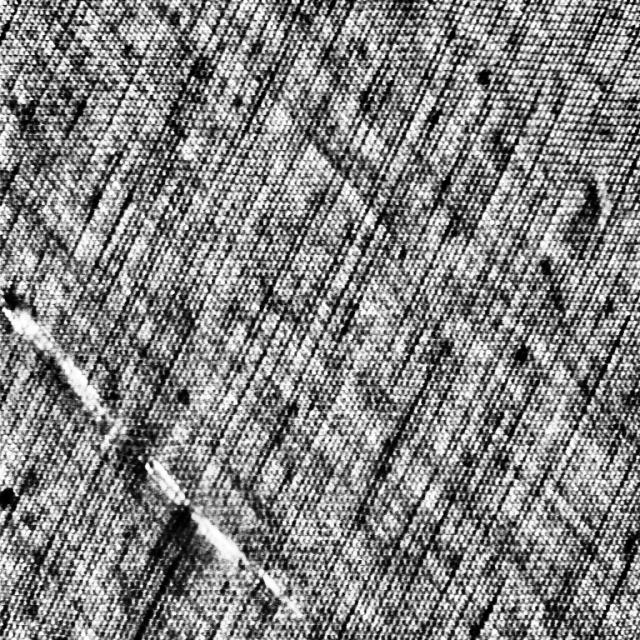Stitch: (0, 277, 312, 638)
